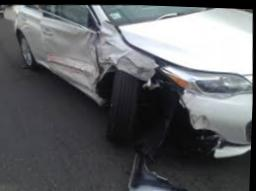Bumper: (180, 109, 252, 159)
Door: (47, 19, 99, 94)
Fender: (95, 25, 188, 100)
